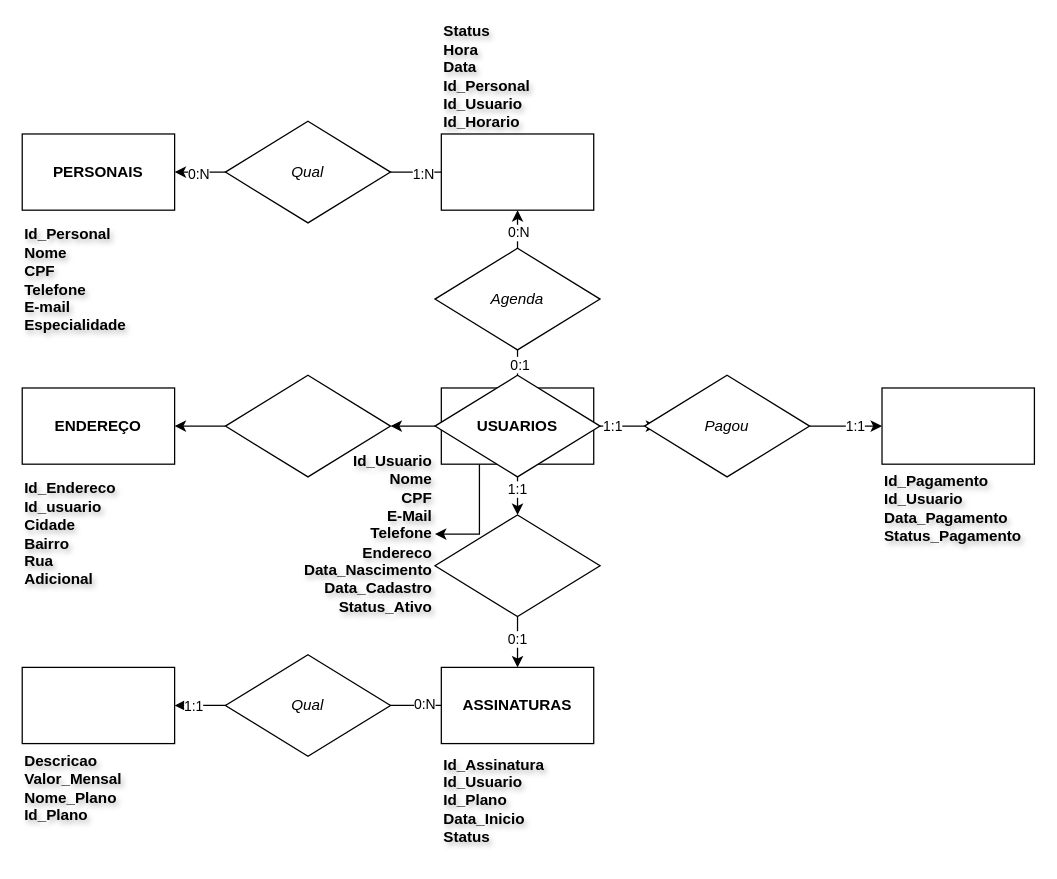
This 1057x879 diagram has some shape labels left out. Here are the shapes that lost their labels. From the top down, the centre of each, then its label:
At (x=517, y=171): "HORARIOS".
At (x=307, y=425): "Mora".
At (x=957, y=425): "PAGAMENTO".
At (x=517, y=565): "Verifica".
At (x=98, y=705): "PLANO".
